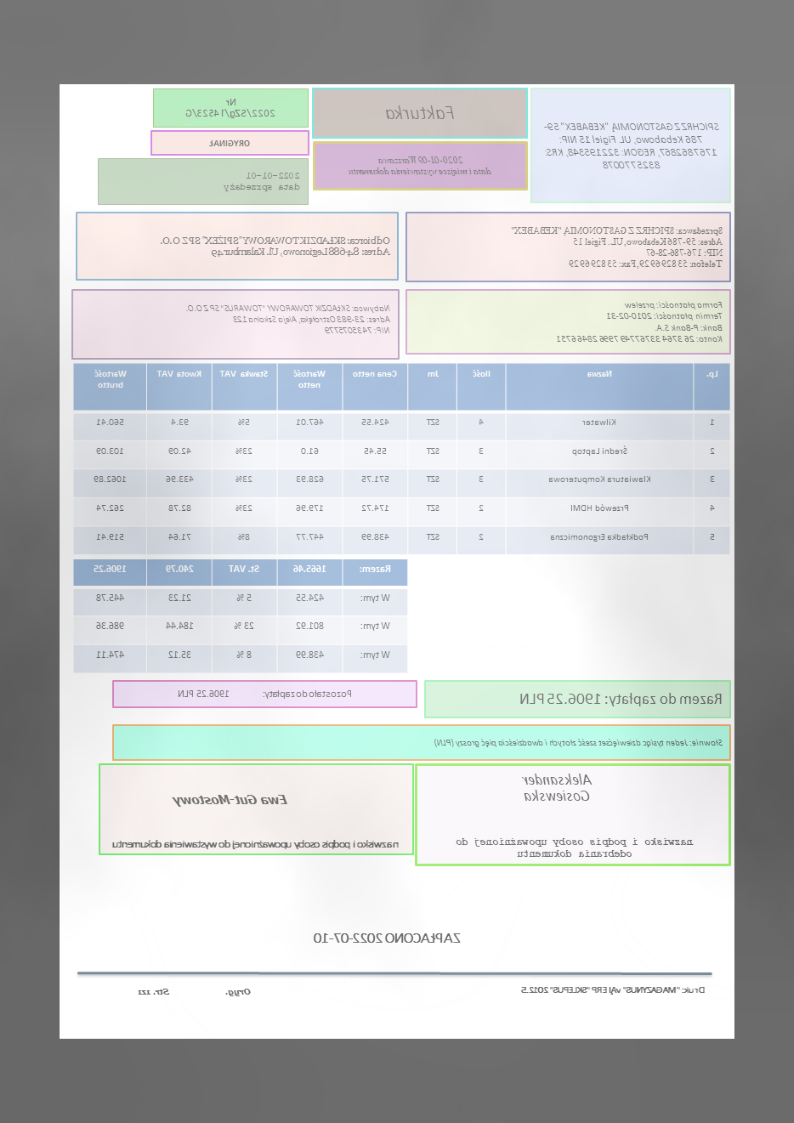Table: (72, 362, 732, 556), (73, 559, 409, 673)
TextBox: (508, 223, 725, 270), (542, 119, 724, 173), (554, 298, 726, 344), (184, 302, 394, 336), (160, 233, 394, 258), (456, 835, 695, 859), (111, 837, 402, 852), (519, 689, 724, 708), (347, 154, 493, 178), (433, 736, 724, 748), (312, 929, 464, 947), (518, 771, 594, 804), (184, 95, 278, 120), (178, 687, 354, 700), (170, 791, 290, 810), (519, 984, 709, 996), (222, 169, 302, 194), (135, 985, 254, 998), (384, 104, 457, 123), (207, 137, 253, 148)
